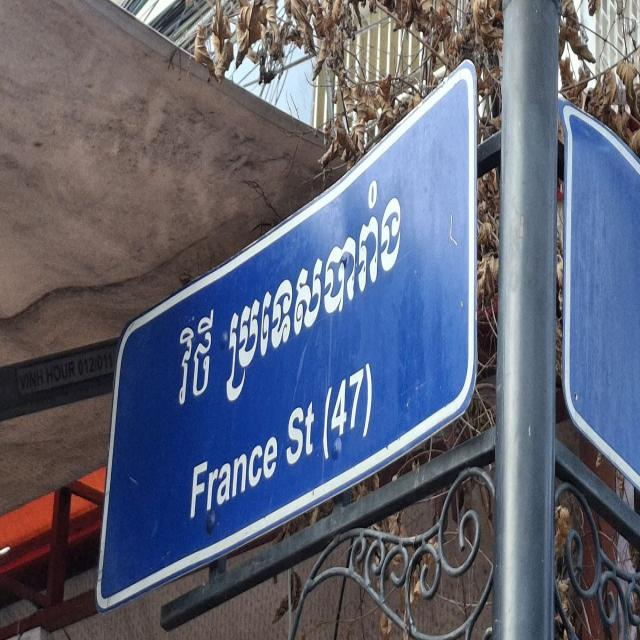Yolov11kh: (220, 136, 418, 444), (153, 287, 215, 452)
